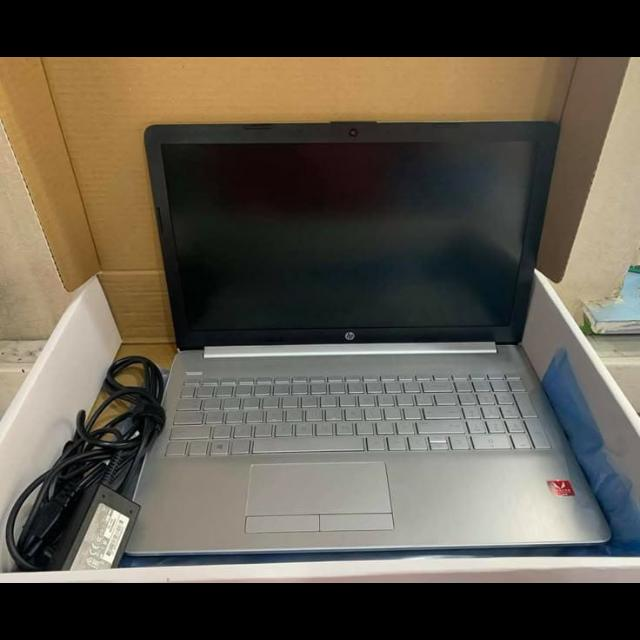laptop: (128, 121, 608, 555)
